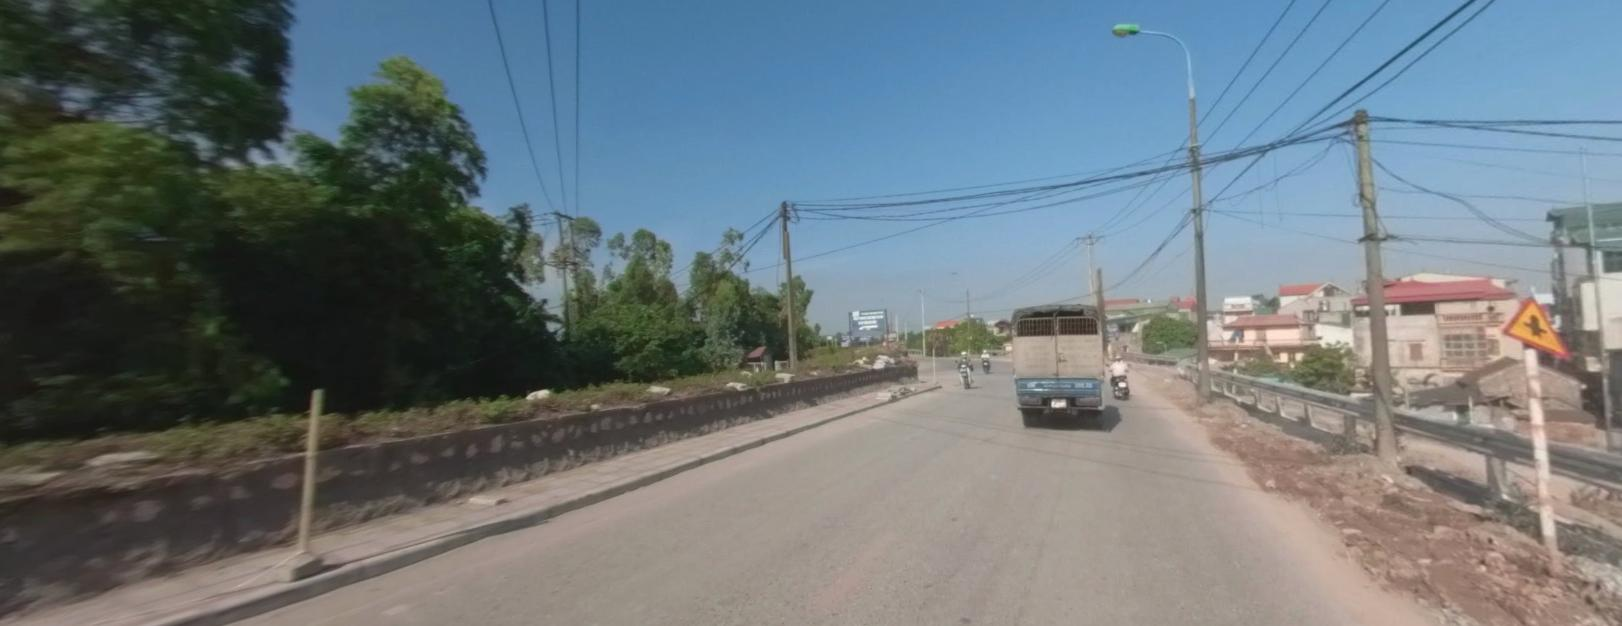Nguy hiem: (1501, 290, 1573, 364)
